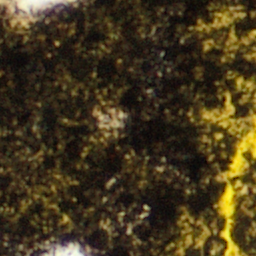cement_matrix: (0, 0, 255, 255), (231, 156, 255, 255), (100, 113, 121, 127), (218, 16, 228, 22)
cracks: (206, 106, 255, 255), (219, 17, 227, 21)
gravel_crushed_stones: (0, 0, 77, 25), (44, 243, 88, 255), (101, 114, 120, 126)
